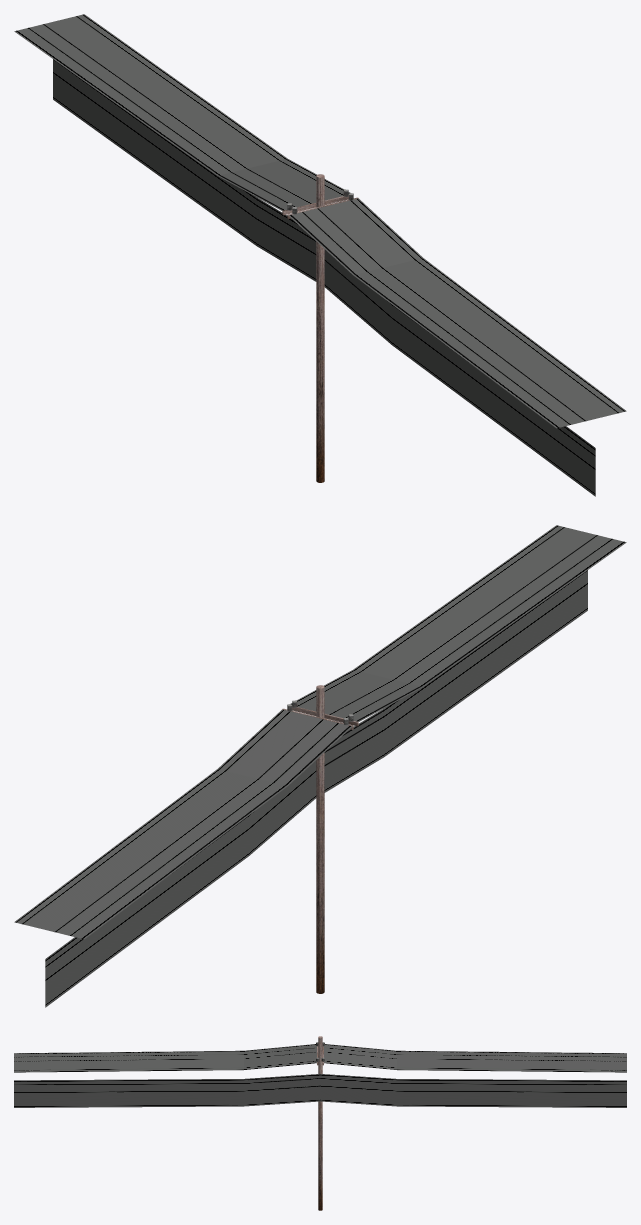
The model's file is tpole40_1c.fbx.
3 renders of one model, top to bottom at view 1: azimuth 30°, elevation 25°; view 2: azimuth 150°, elevation 25°; view 3: azimuth 270°, elevation 25°, orthographic. The views are drawn at different scales.
Visible parts, largest first — view 1: mesh_0; view 2: mesh_0; view 3: mesh_0.
Part boxes in pixels (box(x1,y1,x2,y2)): mesh_0: box(14, 14, 626, 496); mesh_0: box(14, 525, 626, 1007); mesh_0: box(14, 1036, 626, 1210).
Bounding box in the file's own units: 300 × 1242 × 4000.
1 material, 1 textured.
